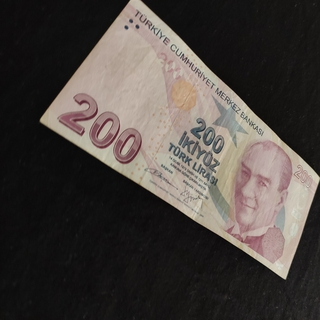200TLFront: (38, 0, 320, 279)
